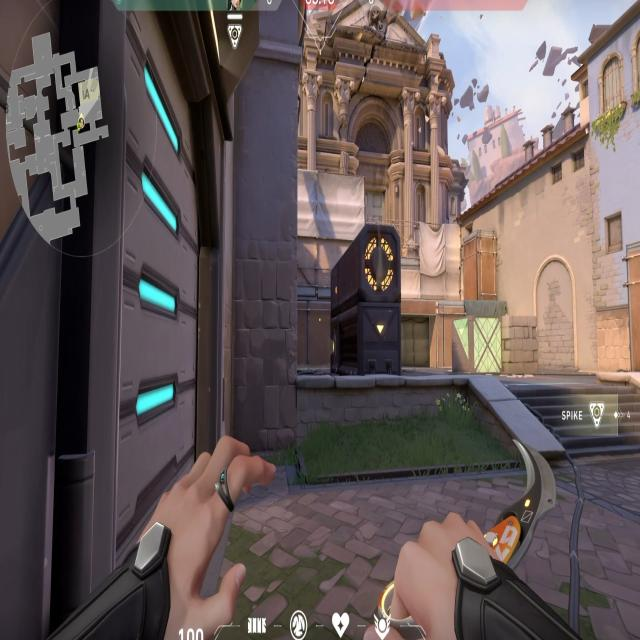A_Door: (38, 0, 235, 613)
A_Heaven_Box: (460, 230, 499, 306)
A_Heaven_Wall: (294, 172, 366, 301)
A_Site_Box: (451, 315, 542, 389)
